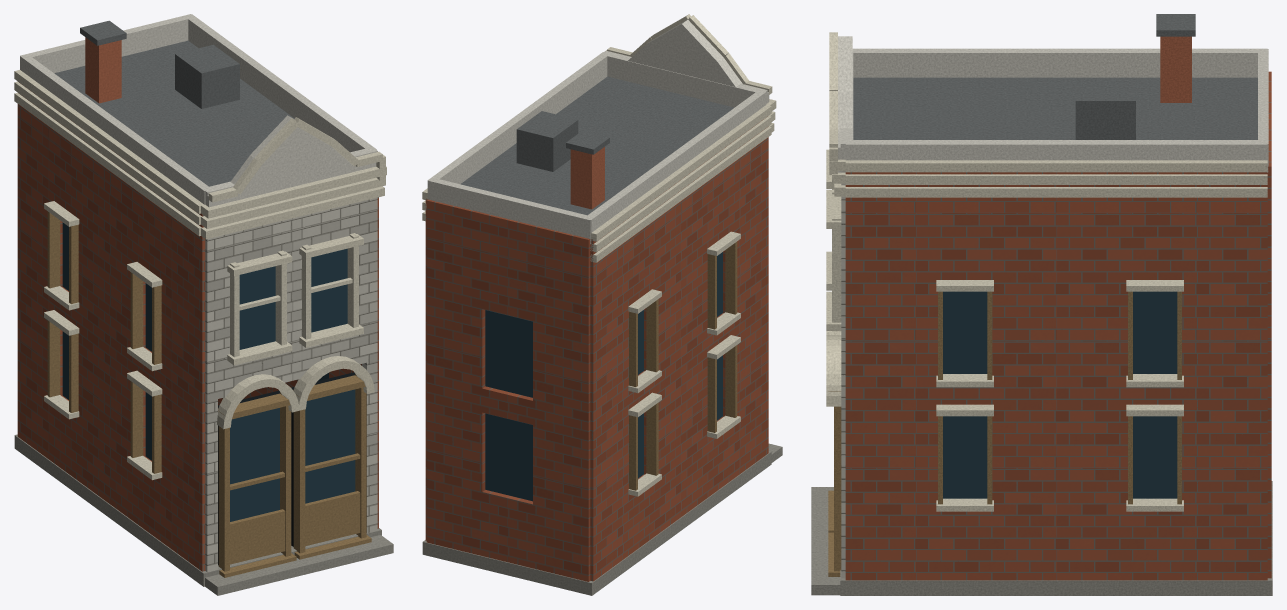
The model's file is CLSTGA11_lod2.glb.
3 views of the same model, side by side, from view 1: azimuth 30°, elevation 25°; view 2: azimuth 150°, elevation 25°; view 3: azimuth 270°, elevation 25° (orthographic). The views are drawn at different scales.
Parts seen in each view (by area): view 1: CLSTGA11_LOD2; view 2: CLSTGA11_LOD2; view 3: CLSTGA11_LOD2.
Boxes of the visible parts, x1,y1,x2,y2 form: CLSTGA11_LOD2: [14, 14, 393, 595]; CLSTGA11_LOD2: [422, 14, 782, 595]; CLSTGA11_LOD2: [811, 14, 1272, 595].
Size of the model in its own units: 3.71 by 8.05 by 6.57.
10 materials, 8 textured.
